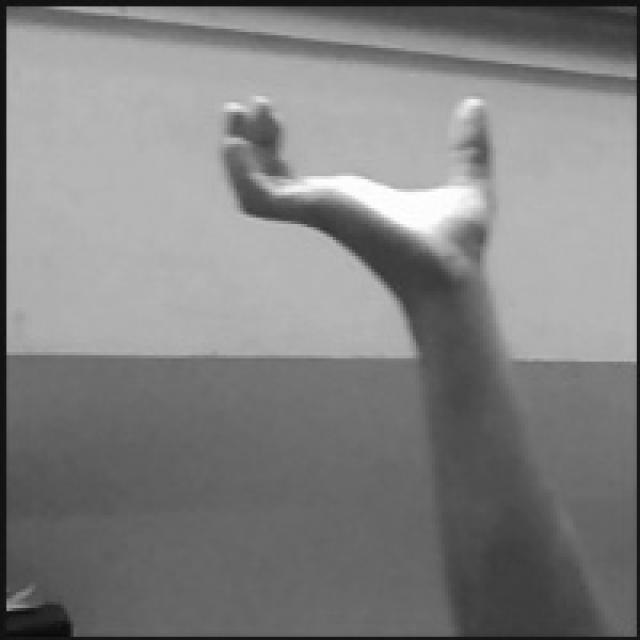space: (216, 91, 498, 272)
